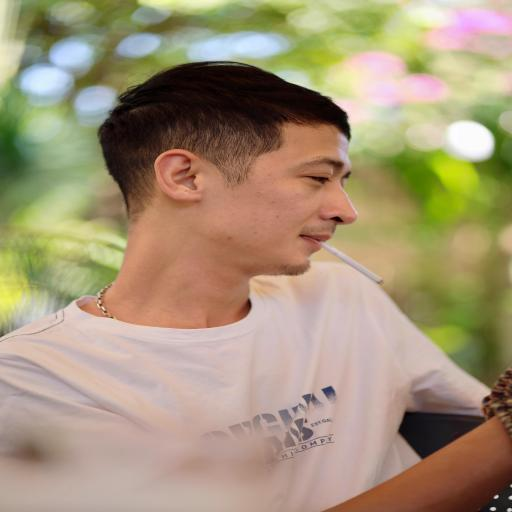terdeteksi merokok: (246, 143, 400, 295)
